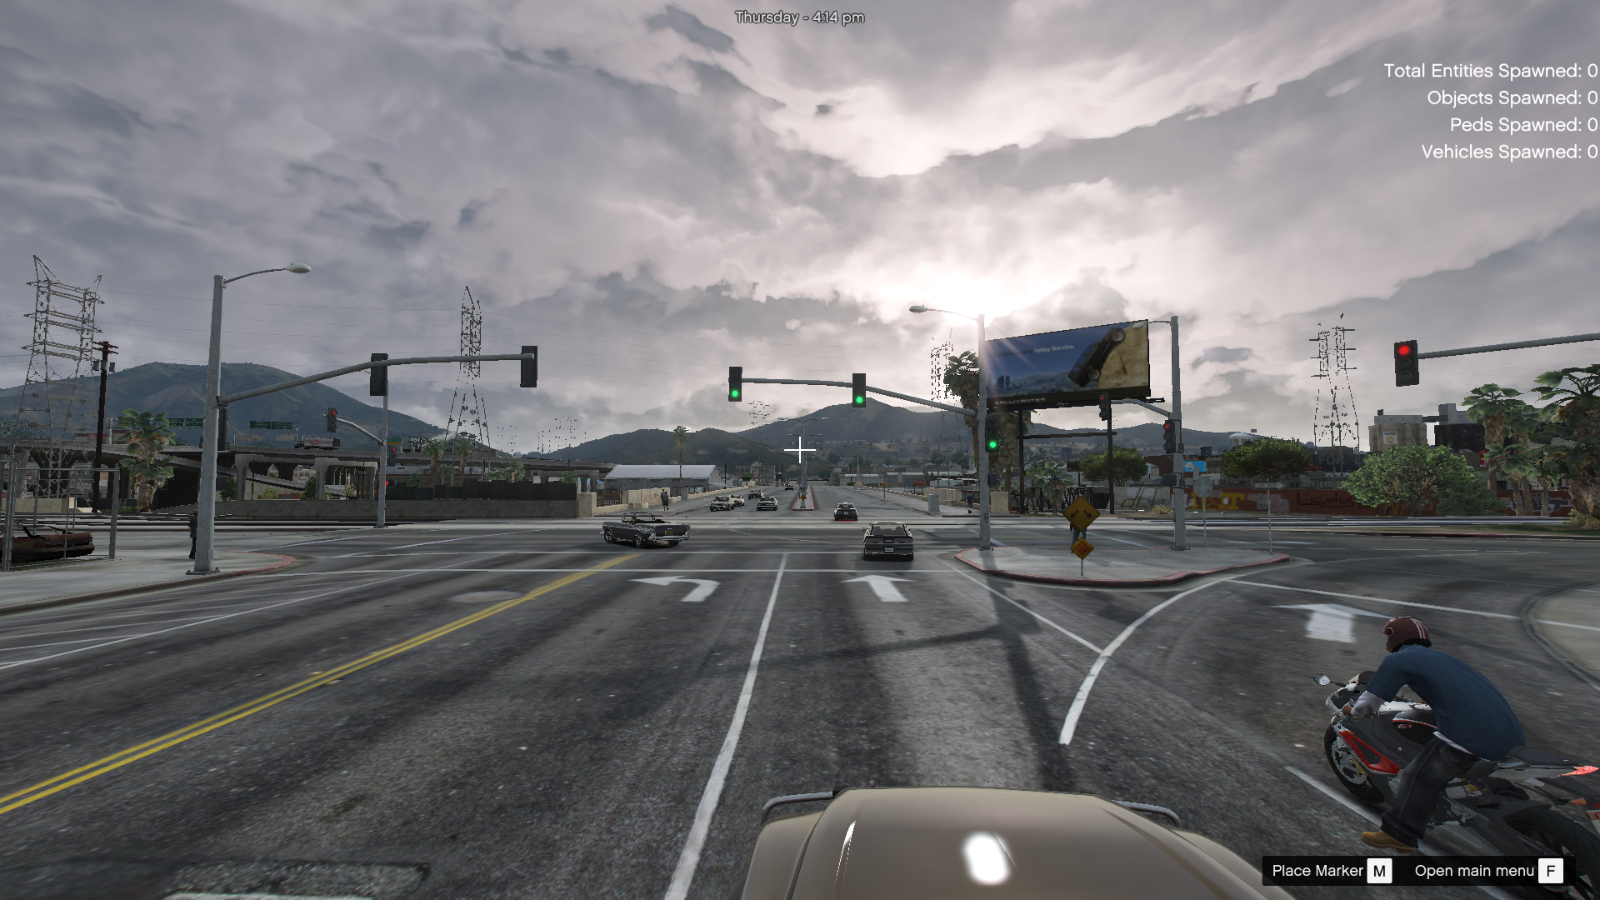green: (849, 367, 870, 413), (981, 414, 1003, 454), (729, 365, 745, 404)
